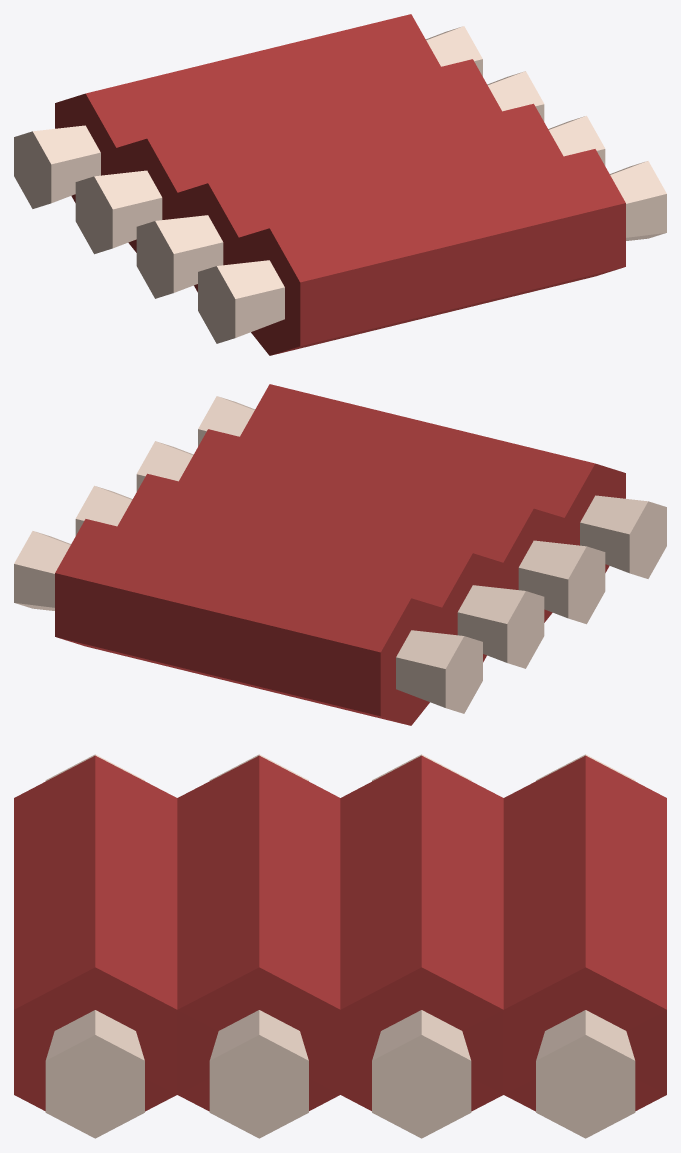
The model's file is Ribs.fbx.
3 renders of one model, top to bottom at view 1: azimuth 30°, elevation 25°; view 2: azimuth 150°, elevation 25°; view 3: azimuth 270°, elevation 25°, orthographic. The views are drawn at different scales.
Parts seen in each view (by area): view 1: Ribs; view 2: Ribs; view 3: Ribs.
Part boxes in pixels (x1,y1,x2,y2): Ribs: (14,14,666,355); Ribs: (14,384,666,725); Ribs: (14,754,666,1138).
Size of the model in its own units: 0.9723 by 0.275 by 0.9563.
